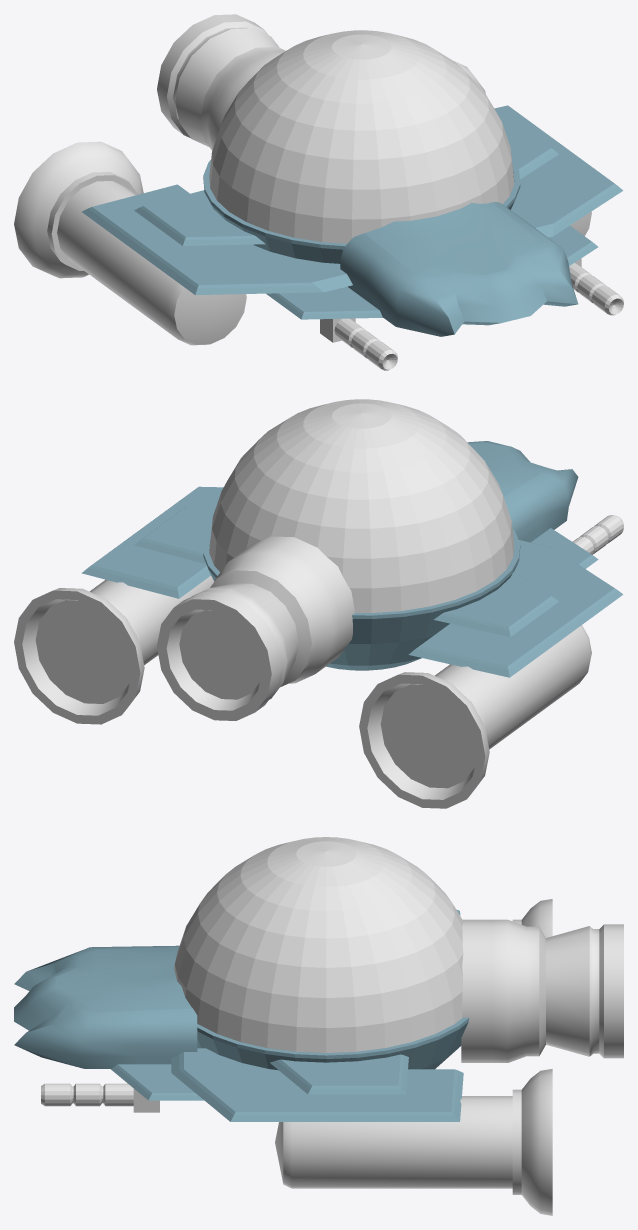
File: spaceship.fbx
3 renders of one model, top to bottom at view 1: azimuth 30°, elevation 25°; view 2: azimuth 150°, elevation 25°; view 3: azimuth 270°, elevation 25°, orthographic.
Parts seen in each view (by area): view 1: dome, cabin, smallerjets, middle_wings, bigjet, upper_wings, lower_wings, spaceship_guns, base1; view 2: dome, smallerjets, bigjet, middle_wings, upper_wings, base1, cabin, spaceship_guns, lower_wings; view 3: dome, smallerjets, bigjet, cabin, middle_wings, base1, upper_wings, spaceship_guns, lower_wings.
Part boxes in pixels (bbox=[...]): dome: bbox=[209, 30, 514, 243]; cabin: bbox=[340, 202, 578, 336]; smallerjets: bbox=[14, 61, 591, 345]; middle_wings: bbox=[82, 105, 623, 295]; bigjet: bbox=[157, 14, 285, 150]; upper_wings: bbox=[134, 117, 558, 245]; lower_wings: bbox=[266, 226, 598, 319]; spaceship_guns: bbox=[320, 258, 623, 370]; base1: bbox=[203, 158, 520, 263]; dome: bbox=[209, 399, 514, 612]; smallerjets: bbox=[14, 576, 591, 808]; bigjet: bbox=[157, 536, 355, 720]; middle_wings: bbox=[82, 486, 622, 677]; upper_wings: bbox=[134, 507, 558, 637]; base1: bbox=[203, 527, 520, 670]; cabin: bbox=[467, 441, 578, 542]; spaceship_guns: bbox=[572, 515, 623, 554]; lower_wings: bbox=[531, 528, 598, 568]; dome: bbox=[174, 837, 463, 1052]; smallerjets: bbox=[275, 899, 552, 1215]; bigjet: bbox=[461, 919, 623, 1062]; cabin: bbox=[14, 945, 197, 1068]; middle_wings: bbox=[171, 909, 463, 1121]; base1: bbox=[197, 1017, 469, 1070]; upper_wings: bbox=[270, 1054, 408, 1094]; spaceship_guns: bbox=[41, 1083, 159, 1112]; lower_wings: bbox=[111, 1064, 203, 1100].
Size of the model in its own units: 958 by 525 by 1064.
